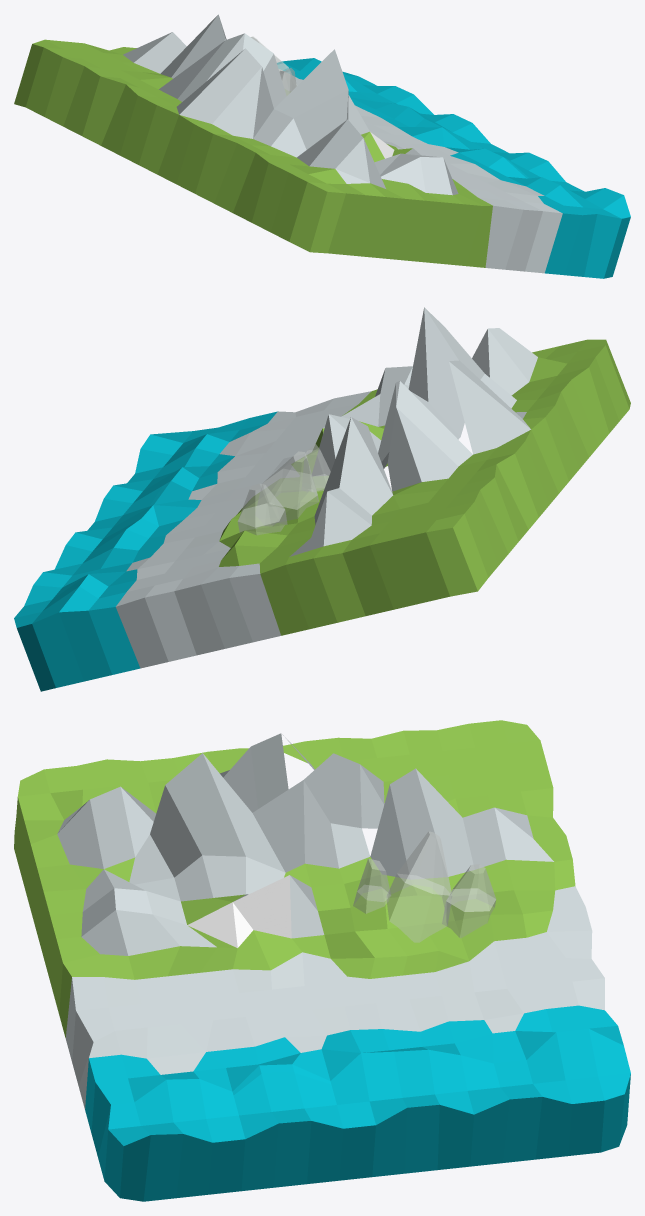
The model's file is crystal-cove.glb.
3 views of the same model, one above another, from view 1: azimuth 30°, elevation 25°; view 2: azimuth 150°, elevation 25°; view 3: azimuth 270°, elevation 25° (orthographic). The views are drawn at different scales.
Parts seen in each view (by area): view 1: group1860989645, group1731444648; view 2: group1860989645, group1731444648, group109579884, group1141572785; view 3: group1860989645, group1731444648, group109579884, group1141572785.
Part boxes in pixels (left/top/right/bottom): group1860989645: left=14, top=14, right=630, bottom=278; group1731444648: left=251, top=36, right=297, bottom=95; group1860989645: left=14, top=307, right=630, bottom=691; group1731444648: left=257, top=451, right=318, bottom=526; group109579884: left=237, top=483, right=287, bottom=534; group1141572785: left=303, top=443, right=330, bottom=491; group1860989645: left=14, top=720, right=630, bottom=1201; group1731444648: left=387, top=831, right=451, bottom=942; group109579884: left=442, top=864, right=496, bottom=937; group1141572785: left=353, top=858, right=390, bottom=913.
Bounding box in the file's own units: 1.44 × 0.8039 × 1.46.
